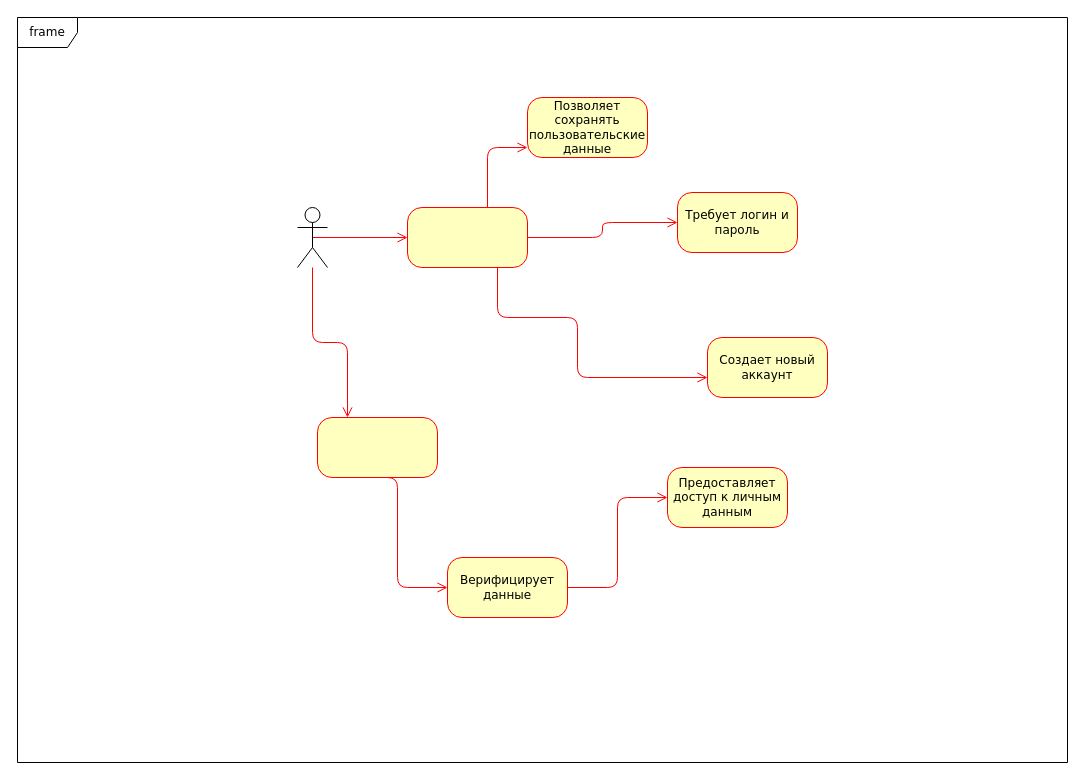
Image size: 1085x780. Some labels were removed from this diagram. The centre of each missing label's shape, as x and y in pixels:
Actor: pixel 312 237
Авторизация: pixel 377 447
Регистрация: pixel 467 237
